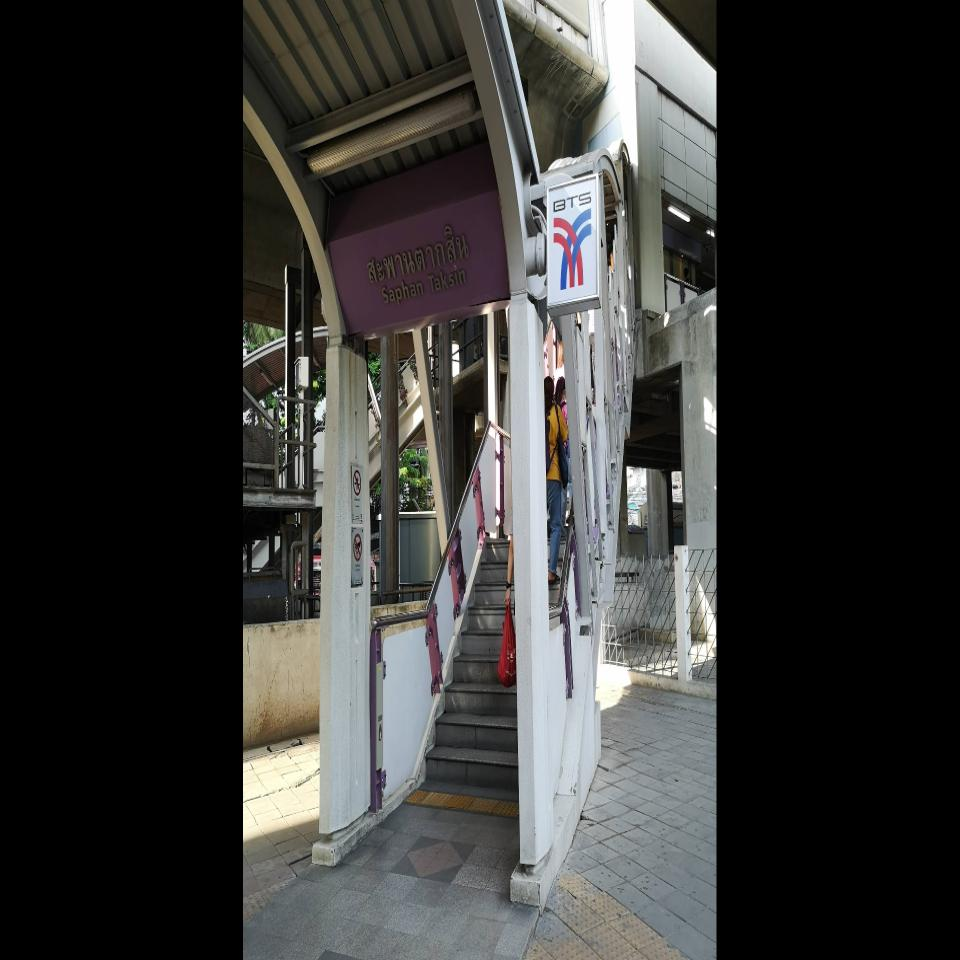Saphan Taksin: (327, 174, 601, 334), (327, 190, 510, 334)
